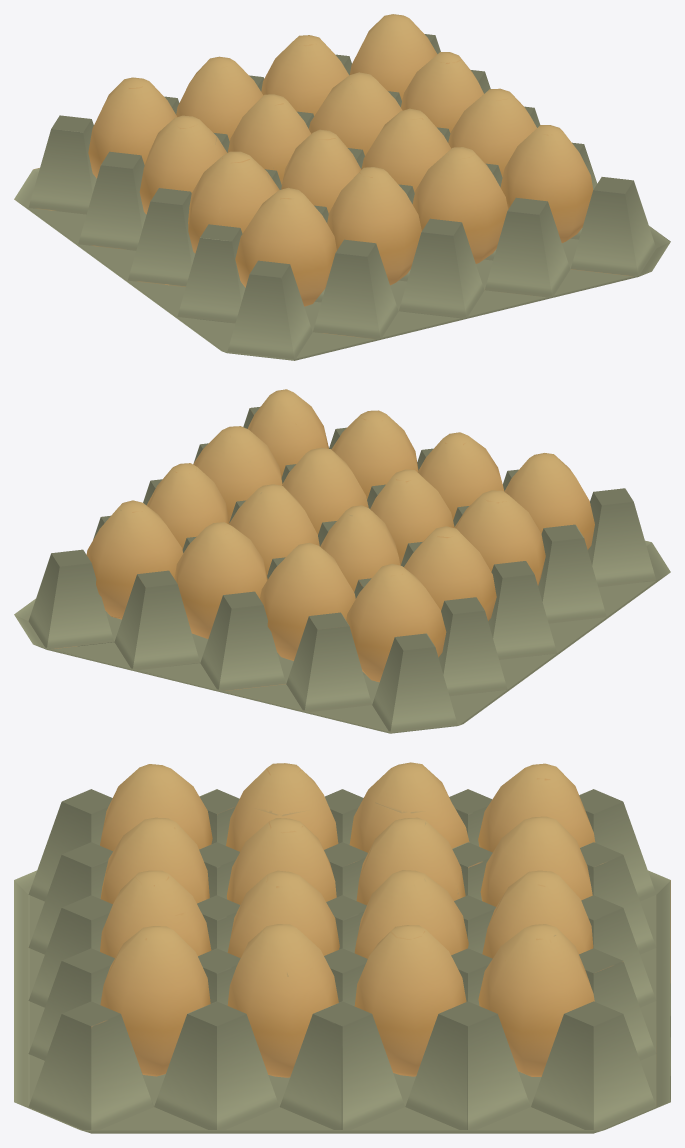
The model's file is Jajka.gltf.
3 renders of one model, top to bottom at view 1: azimuth 30°, elevation 25°; view 2: azimuth 150°, elevation 25°; view 3: azimuth 270°, elevation 25°, orthographic. The views are drawn at different scales.
Visible parts, largest first — view 1: Cube.008; view 2: Cube.008; view 3: Cube.008.
Boxes of the visible parts, bbox=[...] form: Cube.008: bbox=[14, 14, 670, 360]; Cube.008: bbox=[14, 389, 670, 733]; Cube.008: bbox=[14, 762, 670, 1133].
Bounding box in the file's own units: 2.36 × 0.6151 × 2.36.
2 materials, 2 textured.
